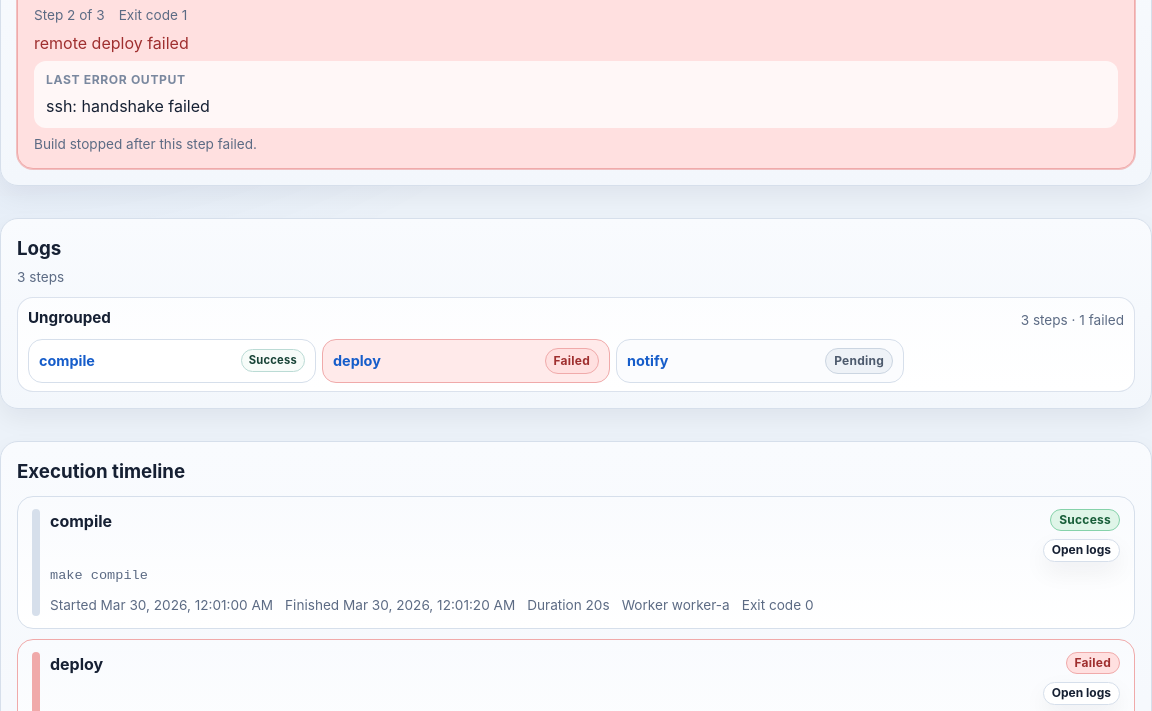
Test: BuildDetailPage › opens the matching step logs when a log card is clicked
(page scrolled)
Expected: the heading "Logs" is shown, 17,235 -> 64,263
What coordinates should you click on to do the following:
click the link with aria-label "Open logs for deploy"
I would click on:
 (357, 360)
Its box is 322,339 -> 610,383.
(page scrolled)
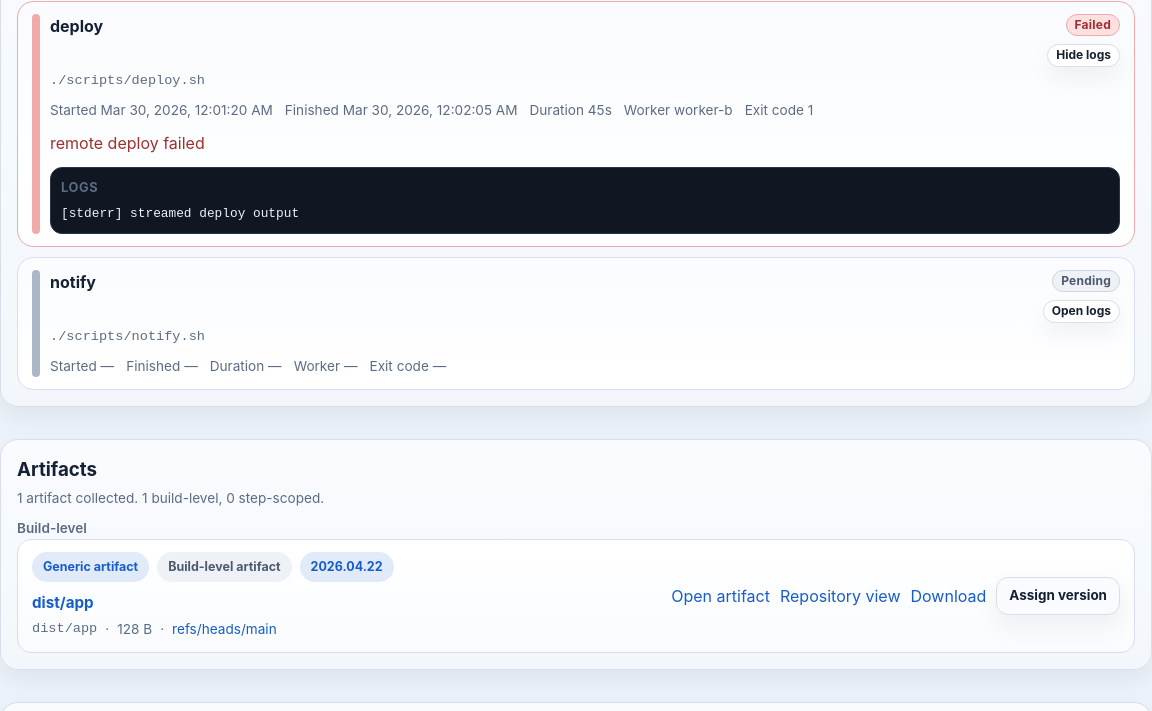
Expected: the button "Hide logs" is shown, 1047,44 -> 1120,67
Expected: the element with class "step-log-panel" is shown, 50,167 -> 1120,234
